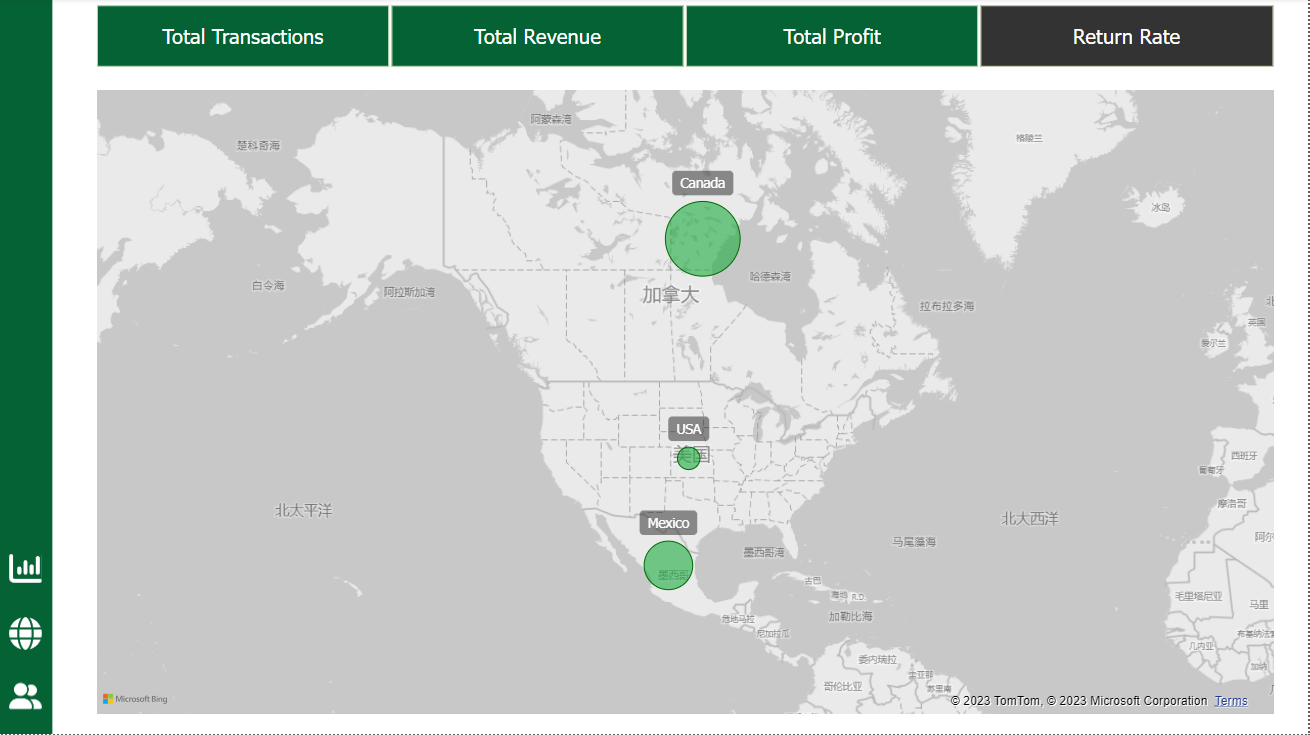

Layout of this report page (visuals, bound fields, positions):
{"tool":"powerbi","page":{"name":"Map","canvas":[1280,720],"ordinal":1},"visuals":[{"type":"shape","box":[0,0,51.3,720],"z":0},{"type":"map","fields":{"Size":["Measure Table.Return Rate"],"Category":["Stores.store_country"]},"box":[90.5,85.6,1160.1,619.8],"z":1000},{"type":"slicer","fields":{"Values":["Measures 2.Measures"]},"box":[68.5,0,1200.4,74.6],"z":2000},{"type":"actionButton","box":[4.9,537.9,41.6,40.3],"z":3000},{"type":"actionButton","box":[4.9,601.6,41.6,40.3],"z":4000},{"type":"actionButton","box":[4.9,662.8,41.6,40.3],"z":5000}]}

Visuals, with their boxes on the page's 1280x720 design canvas (x1, y1, x2, y2). These are canvas units, not pixel positions in the 1310x735 screenshot, which may show the page scaled, cropped or inside an application window:
shape: {"x1": 0, "y1": 0, "x2": 51, "y2": 720}
map - Measure Table.Return Rate x Stores.store_country: {"x1": 90, "y1": 86, "x2": 1251, "y2": 705}
slicer - Measures 2.Measures: {"x1": 68, "y1": 0, "x2": 1269, "y2": 75}
actionButton: {"x1": 5, "y1": 538, "x2": 46, "y2": 578}
actionButton: {"x1": 5, "y1": 602, "x2": 46, "y2": 642}
actionButton: {"x1": 5, "y1": 663, "x2": 46, "y2": 703}
